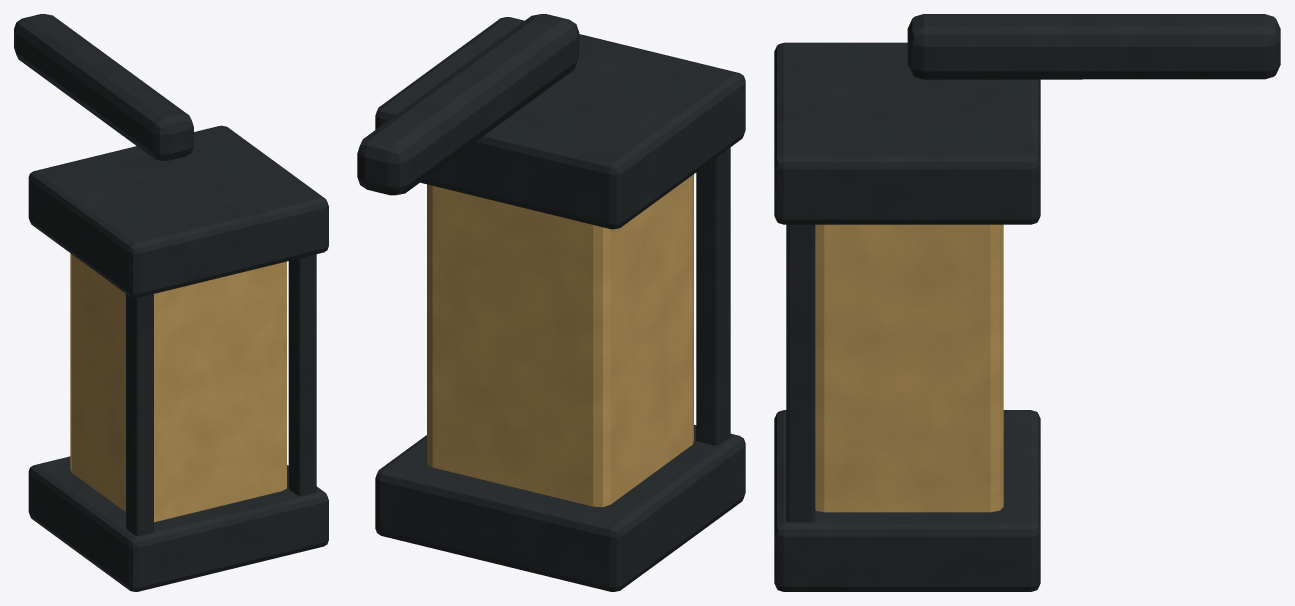
Rendered from Hanging_Lantern.fbx.
The picture shows the model from 3 angles, left to right: view 1: azimuth 30°, elevation 25°; view 2: azimuth 150°, elevation 25°; view 3: azimuth 270°, elevation 25°; orthographic projection. The views are drawn at different scales.
Parts seen in each view (by area): view 1: Hanging_Lantern.001; view 2: Hanging_Lantern.001; view 3: Hanging_Lantern.001.
Part boxes in pixels (left/top/right/bottom): Hanging_Lantern.001: left=14, top=14, right=328, bottom=591; Hanging_Lantern.001: left=357, top=14, right=745, bottom=591; Hanging_Lantern.001: left=774, top=14, right=1280, bottom=591.
Bounding box in the file's own units: 0.27 × 0.5325 × 0.475.
